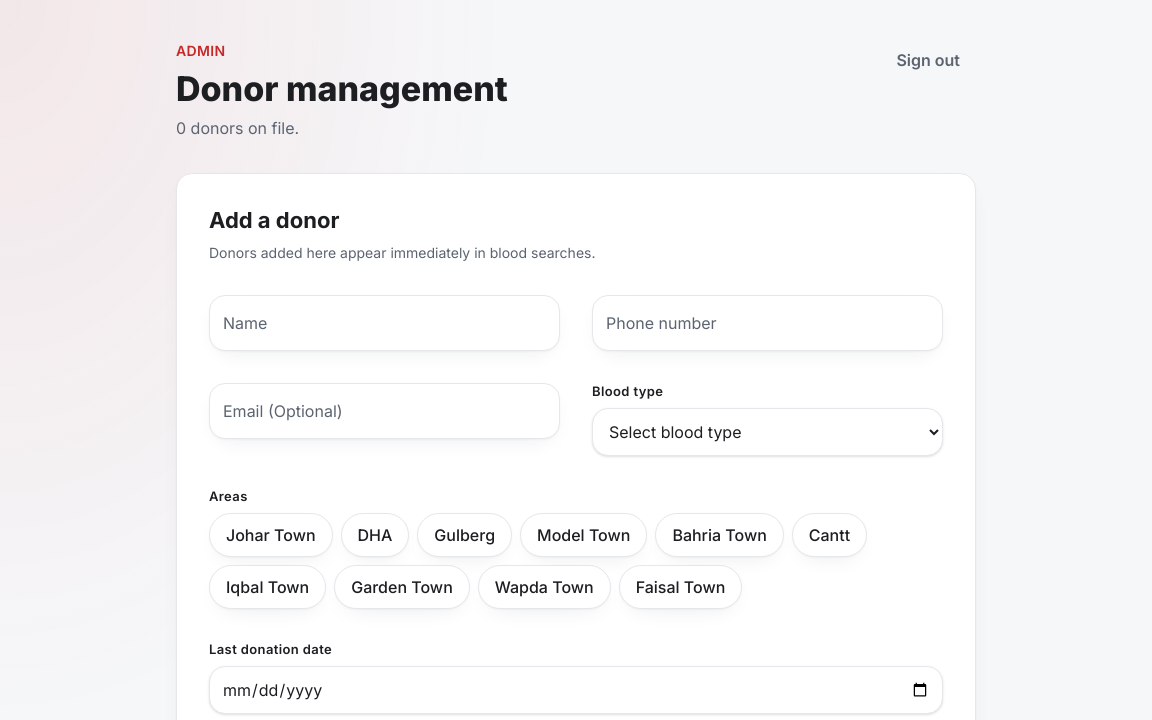
it: Admin page › submits a valid donor and refreshes the list
Type "Sara Ali" into the field labelled "Name" at coordinates (384, 324), box [209,296,560,352]
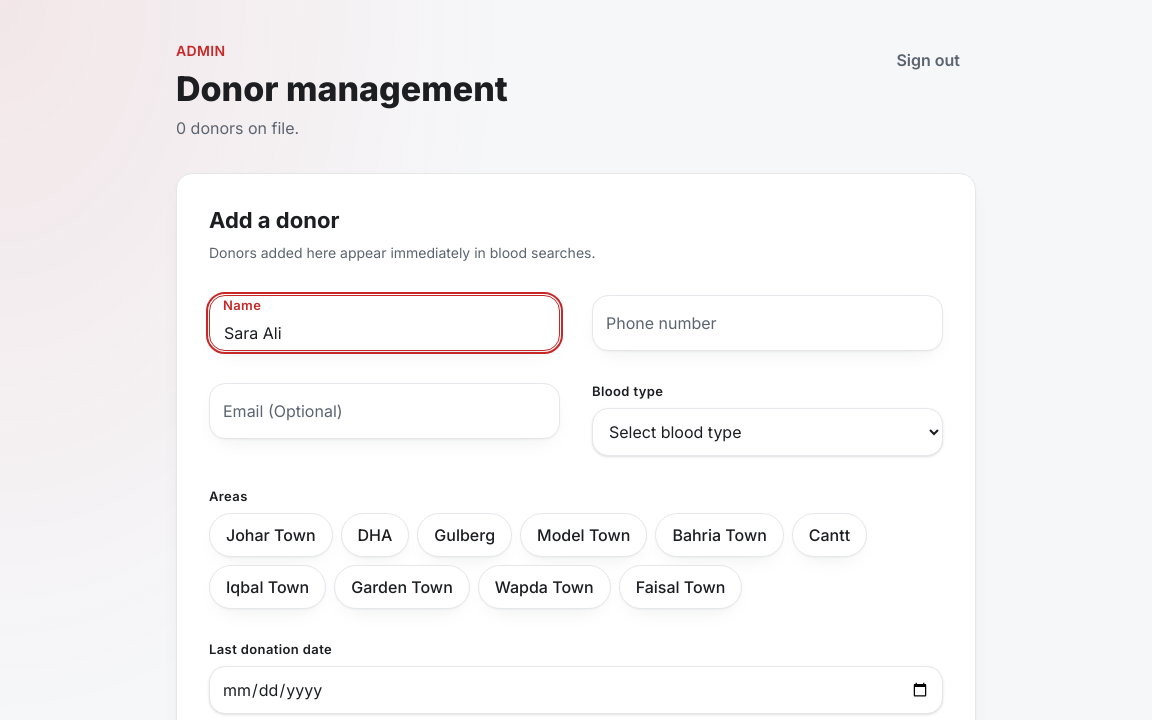
Type "+923334455667" into the field labelled "Phone number" at coordinates (768, 324), box [592,296,943,352]
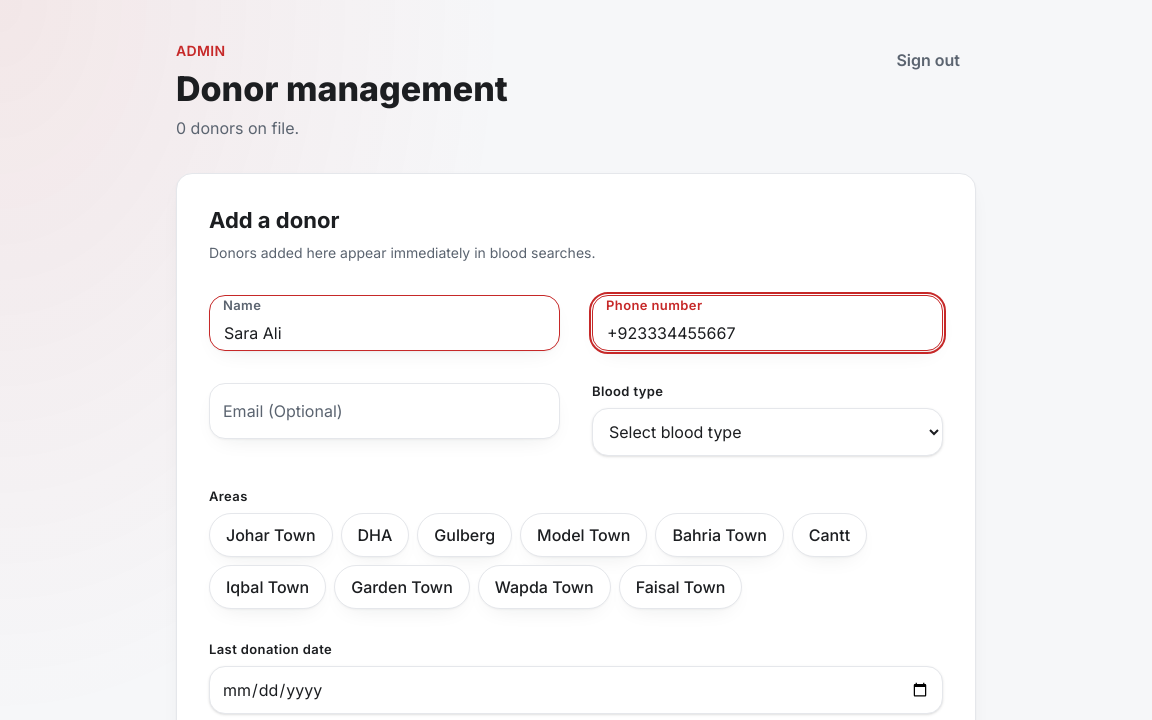
Select "A+" in the dropdown labelled "Blood type" at coordinates (768, 432), box [592,408,943,456]
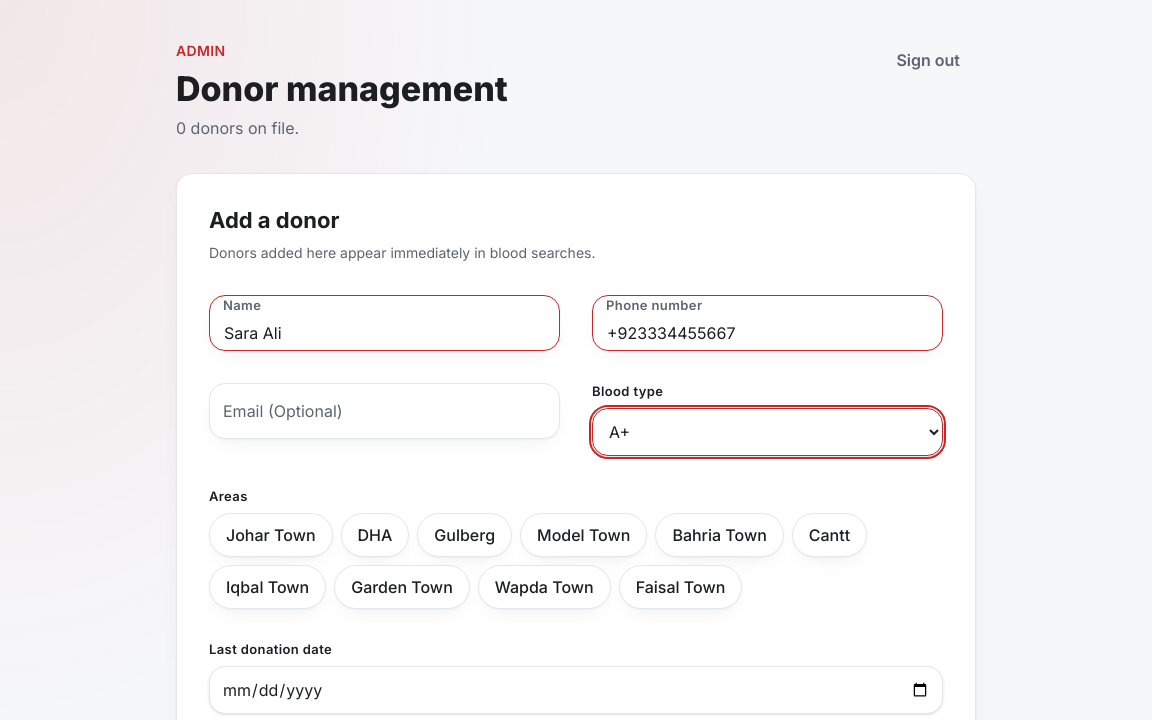
Click the checkbox labelled "Johar Town" at coordinates (271, 535), box [209,513,332,557]
(page scrolled)
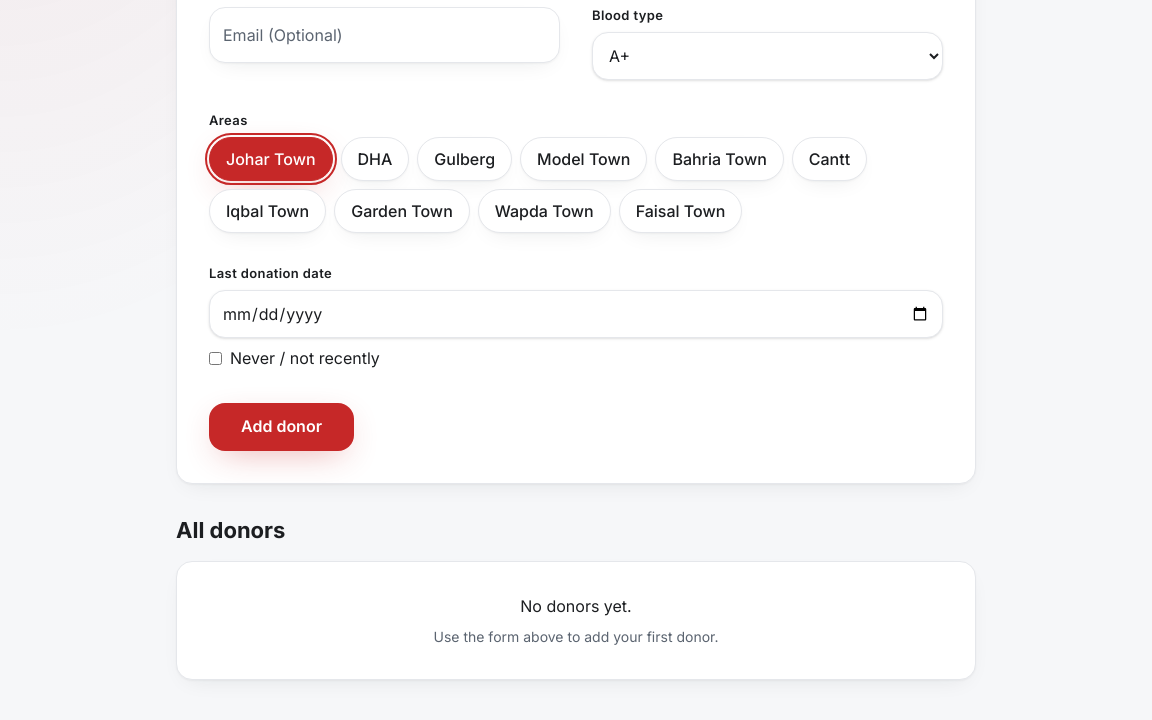
Result: the button "Add donor" is enabled
Click the button "Add donor" at coordinates (282, 427), box [209,403,354,451]
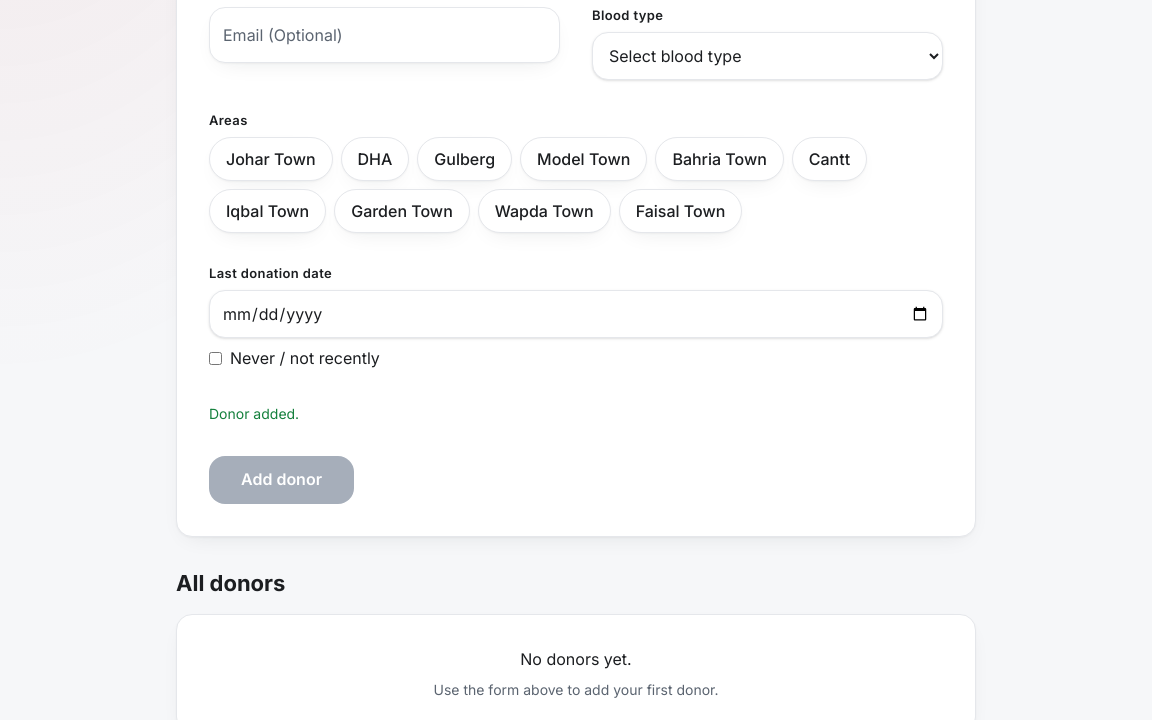
Result: the text "Donor added." is shown at [209,405,299,422]
